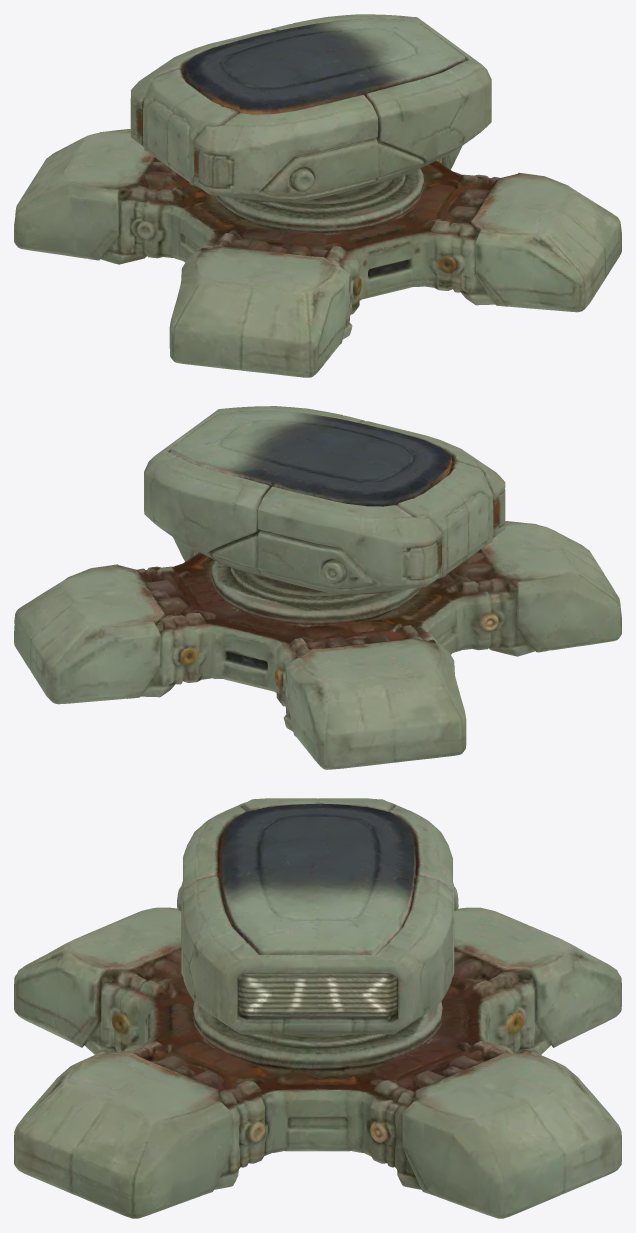
The picture shows the model from 3 angles, top to bottom: view 1: azimuth 30°, elevation 25°; view 2: azimuth 150°, elevation 25°; view 3: azimuth 270°, elevation 25°; orthographic projection. The views are drawn at different scales.
Visible parts, largest first — view 1: stationary-base, yaw-head-mesh; view 2: stationary-base, yaw-head-mesh; view 3: stationary-base, yaw-head-mesh.
Boxes of the visible parts, x1,y1,x2,y2 form: stationary-base: [14, 129, 621, 377]; yaw-head-mesh: [130, 14, 491, 202]; stationary-base: [14, 521, 621, 769]; yaw-head-mesh: [144, 406, 505, 594]; stationary-base: [14, 907, 621, 1218]; yaw-head-mesh: [177, 798, 458, 1034].
Size of the model in its own units: 0.9893 by 0.4245 by 0.9899.
Materials: 1 (1 with a texture image).
